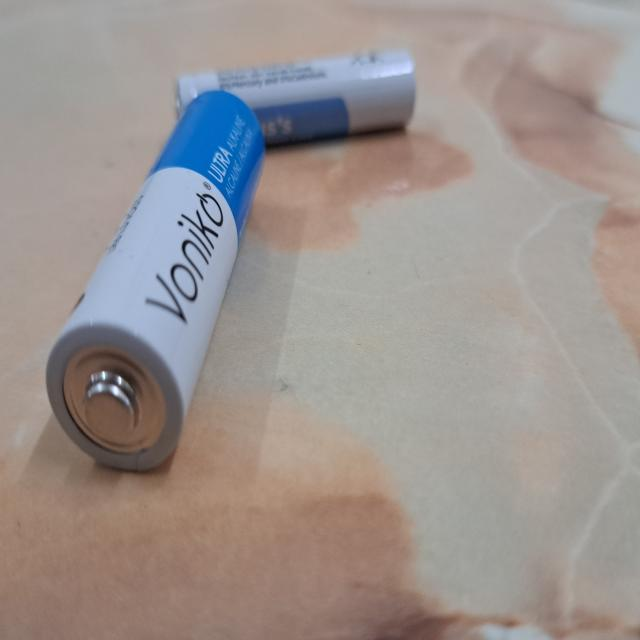battery: (45, 93, 261, 472), (178, 49, 418, 144)
